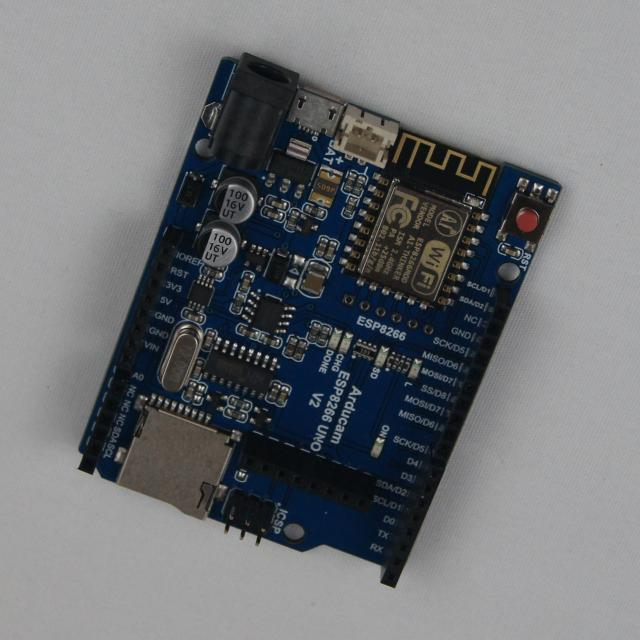Arduino Uno Camera Shield: (80, 54, 561, 587)
